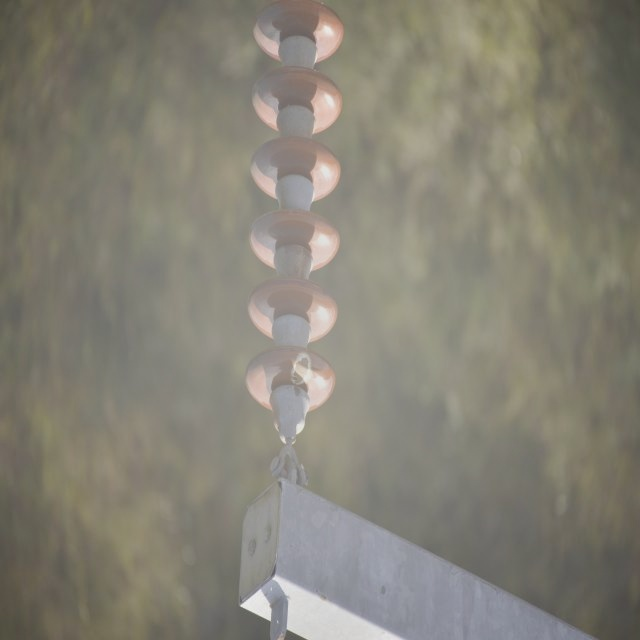insulator: (244, 8, 344, 414)
